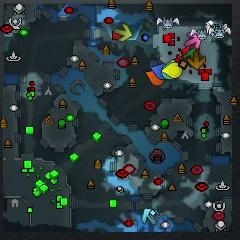p1: (150, 64, 168, 80)
p2: (162, 58, 176, 80)
p4: (162, 63, 184, 79)
p5: (145, 71, 165, 86)
x1: (185, 32, 201, 48)
x2: (114, 23, 133, 42)
x3: (142, 208, 158, 225)
x4: (185, 48, 202, 61)
x5: (188, 51, 206, 70)
